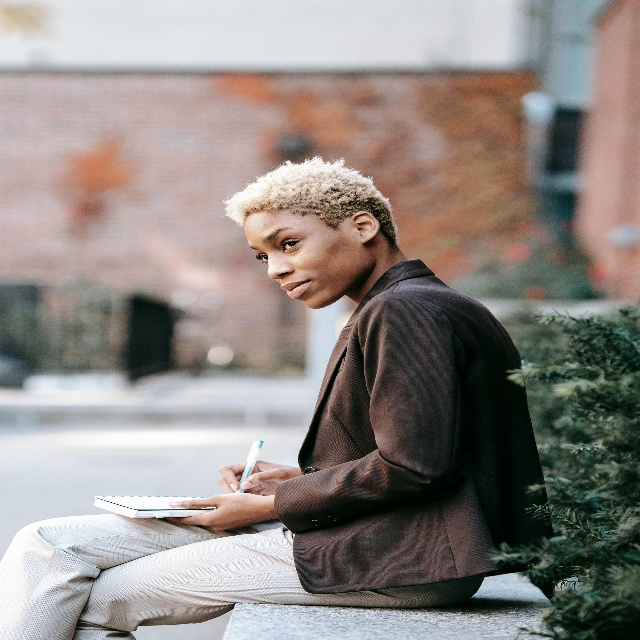Sin_guantes: (164, 493, 264, 532), (217, 460, 301, 497)
